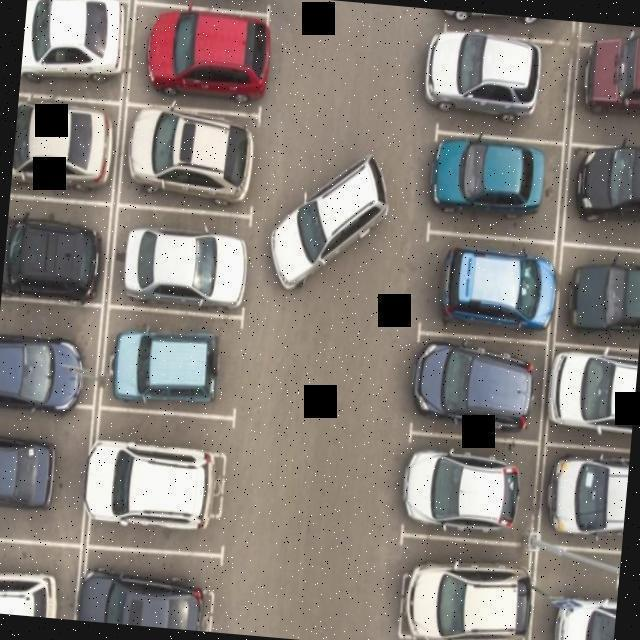space-occupied: (85, 415, 231, 547), (428, 31, 575, 144), (115, 106, 262, 218), (125, 3, 274, 106), (422, 134, 561, 243), (413, 232, 556, 335), (408, 333, 551, 435), (393, 536, 532, 640), (400, 437, 537, 541), (111, 211, 252, 309), (103, 311, 236, 405), (0, 400, 88, 539), (77, 554, 221, 632), (10, 98, 118, 199), (548, 245, 640, 358), (19, 0, 124, 98), (2, 201, 108, 297), (536, 442, 630, 549), (0, 302, 95, 401), (545, 349, 638, 444), (558, 143, 640, 250), (527, 547, 620, 640), (568, 47, 640, 139), (0, 549, 74, 619)
